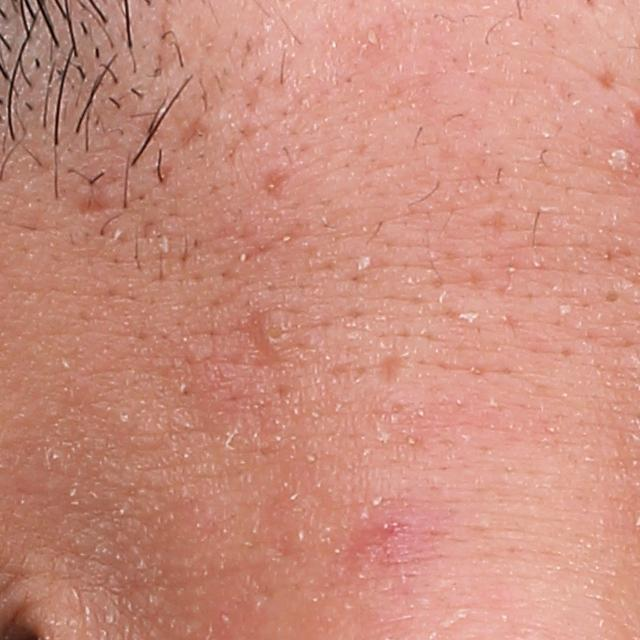atrophic_scar: (232, 308, 283, 385), (376, 349, 410, 383), (182, 120, 211, 152)
comedo: (599, 291, 623, 304)
